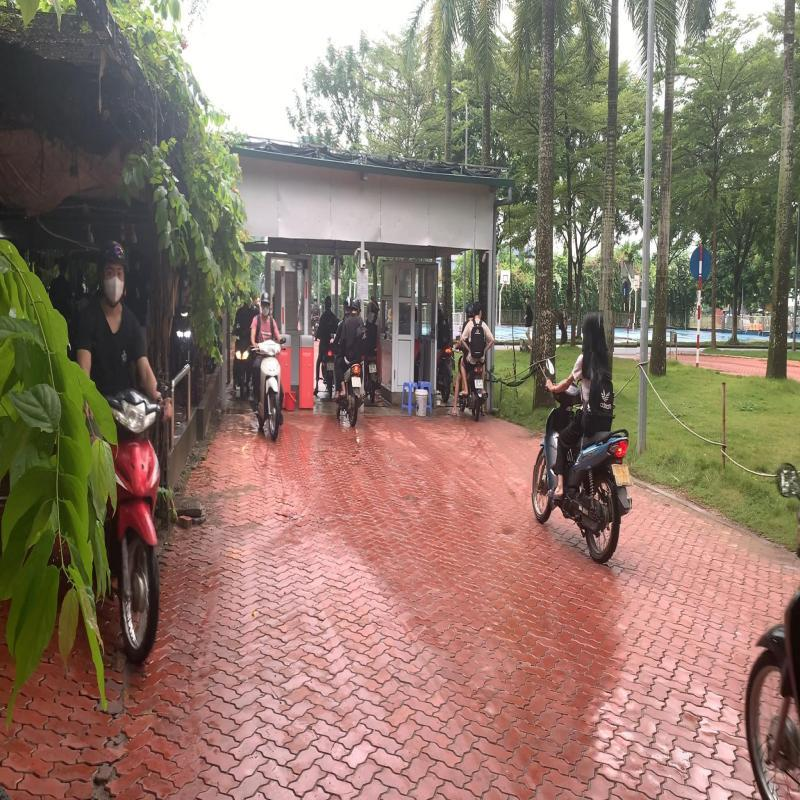licenseplate: (611, 463, 632, 486)
motorcyclist: (530, 310, 635, 564)
nohelmet: (581, 312, 600, 352)
